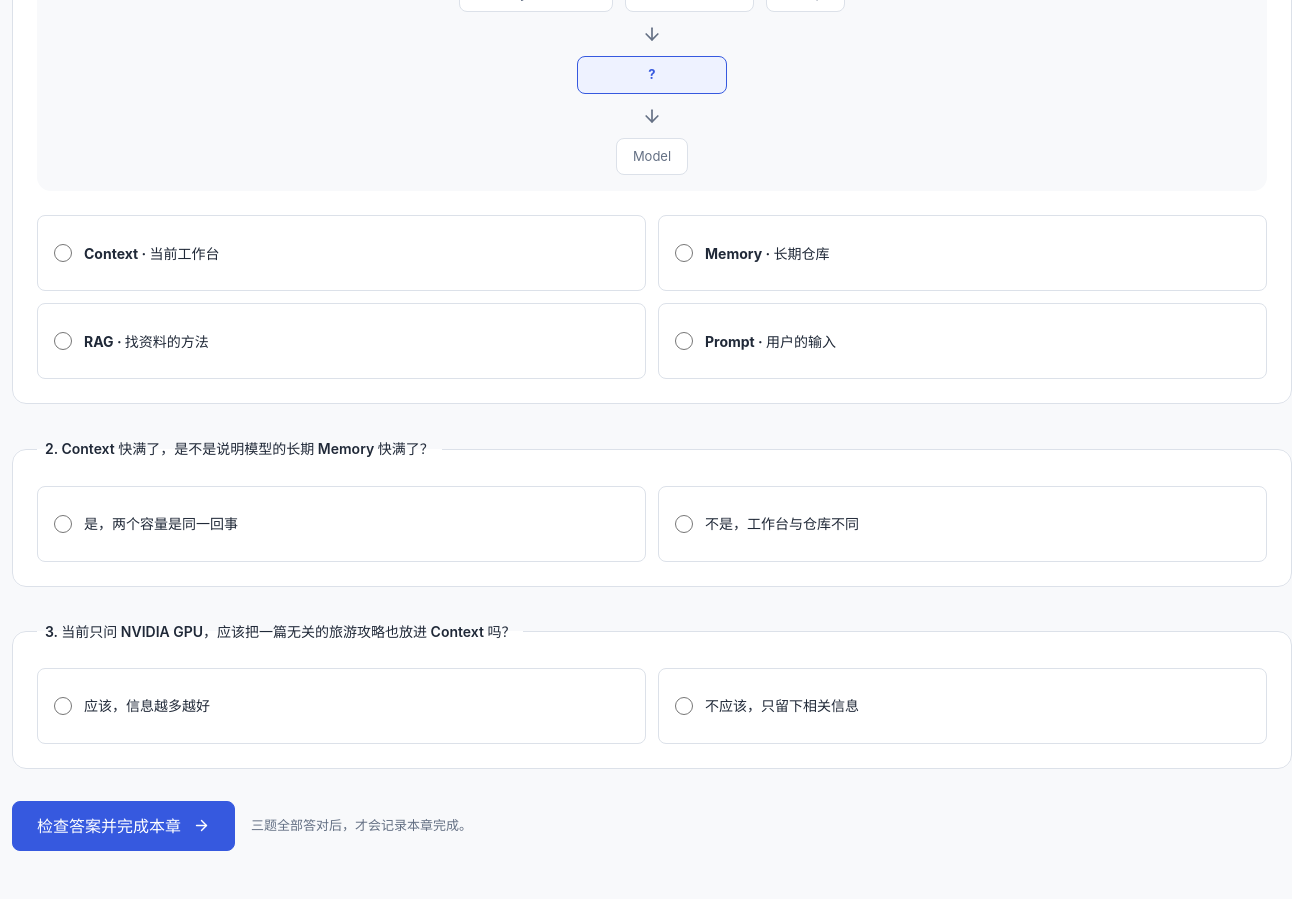
Test case: ContextMiniChallenge › does not complete an empty submission and moves focus to the first question
The width and height of the screenshot is (1292, 899).
(page scrolled)
Click the button "检查答案并完成本章" at [124, 826], box [12, 801, 235, 851]
(page scrolled)
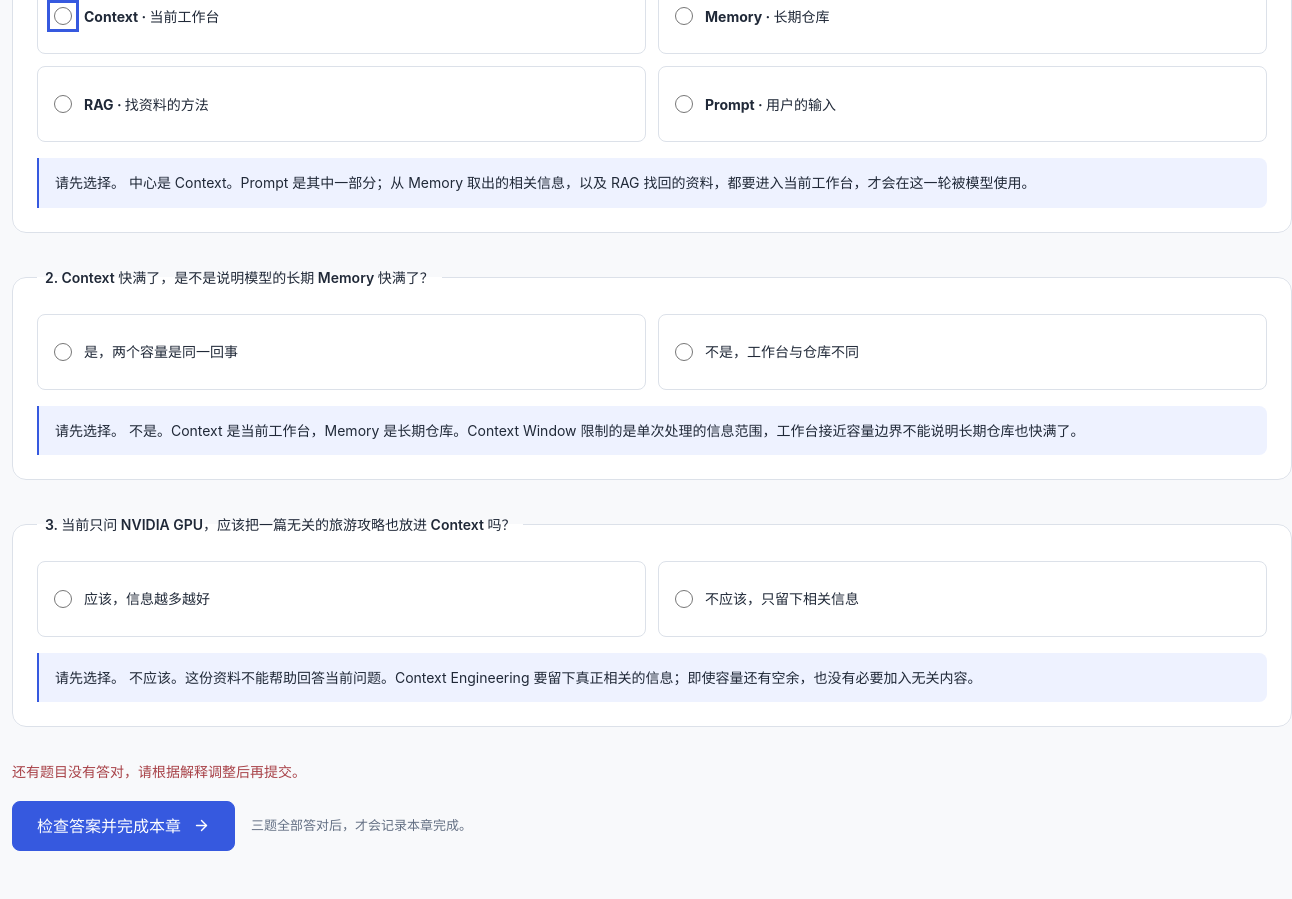
Now the message "还有题目没有答对，请根据解释调整后再提交。" is shown, box [12, 763, 306, 780]
